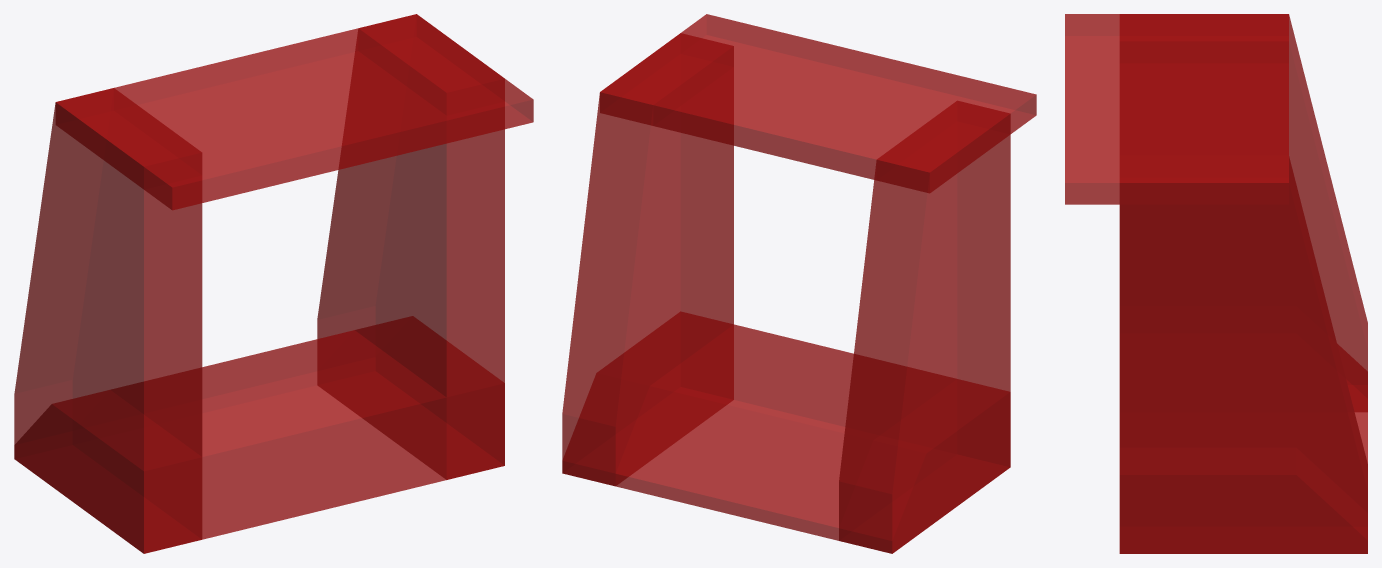
The model's file is SM_Prop_Vent_02_Collision.fbx.
3 views of the same model, side by side, from view 1: azimuth 30°, elevation 25°; view 2: azimuth 150°, elevation 25°; view 3: azimuth 270°, elevation 25° (orthographic). The views are drawn at different scales.
Parts seen in each view (by area): view 1: SM_Prop_Vent_02_Collision; view 2: SM_Prop_Vent_02_Collision; view 3: SM_Prop_Vent_02_Collision.
Part boxes in pixels (x1=…): SM_Prop_Vent_02_Collision: x1=14, y1=14, x2=533, y2=553; SM_Prop_Vent_02_Collision: x1=562, y1=14, x2=1036, y2=553; SM_Prop_Vent_02_Collision: x1=1065, y1=14, x2=1367, y2=553.
Size of the model in its own units: 157 by 161 by 119.
